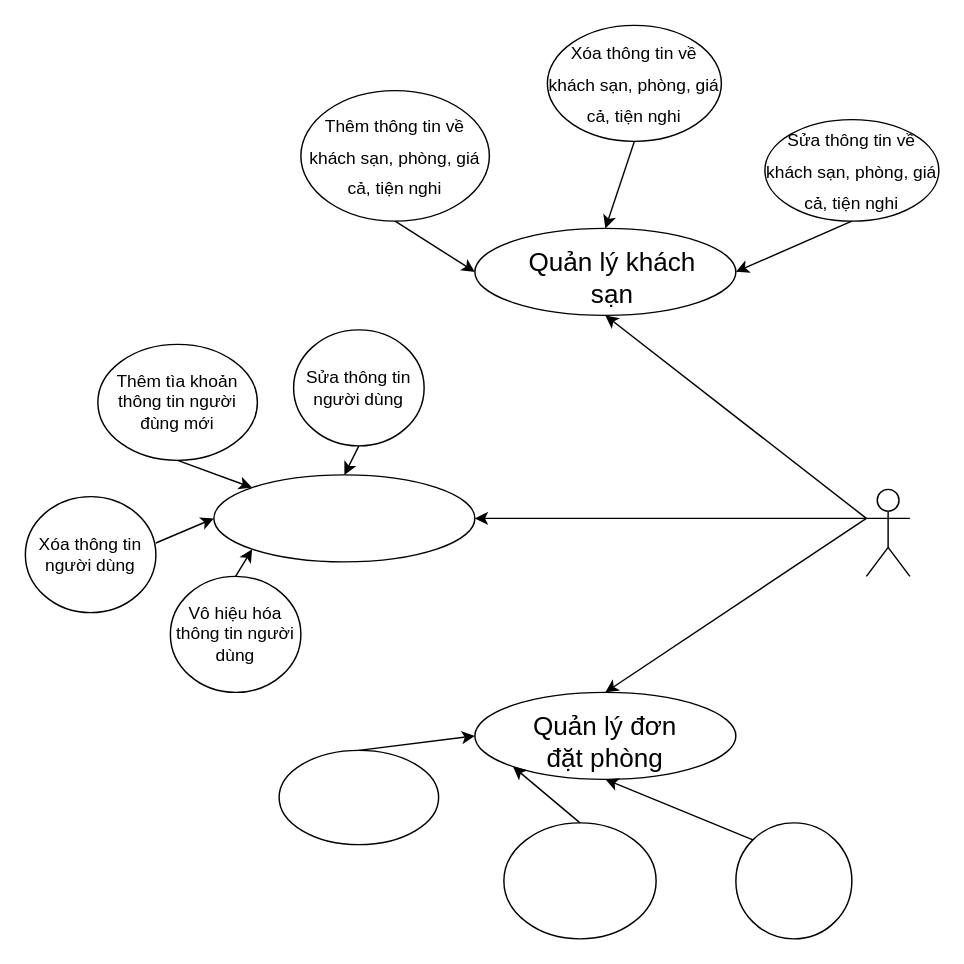
This 964x964 diagram has some shape labels left out. The shapes that lost their labels are listed below. From the top down, each one's centre as x and y in pixels, then its label:
At pixel 343 517: "Quản lý người dùng".
At pixel 887 532: "Admin".
At pixel 358 797: "Có thể chỉnh sửa đơn đặt phòng".
At pixel 579 880: "Có thể xác nhận hủy đơn đặt phòng".
At pixel 793 880: "Quản lý các đơn đặt phòng hiện có".
